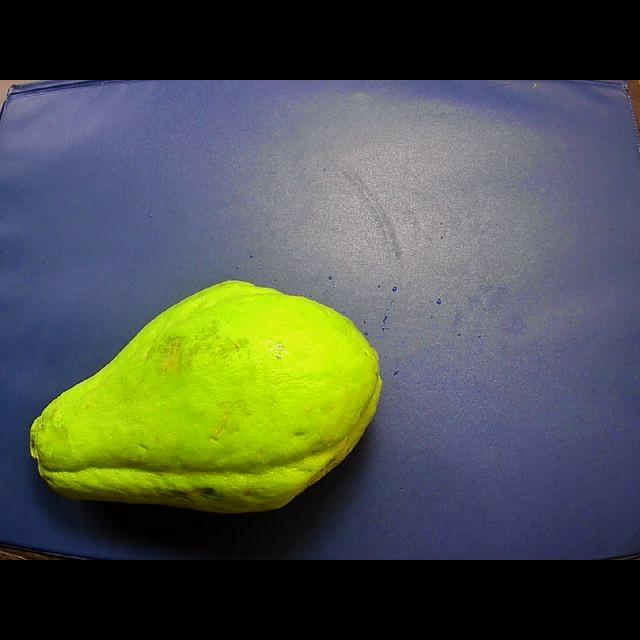chayote: (31, 281, 381, 512)
